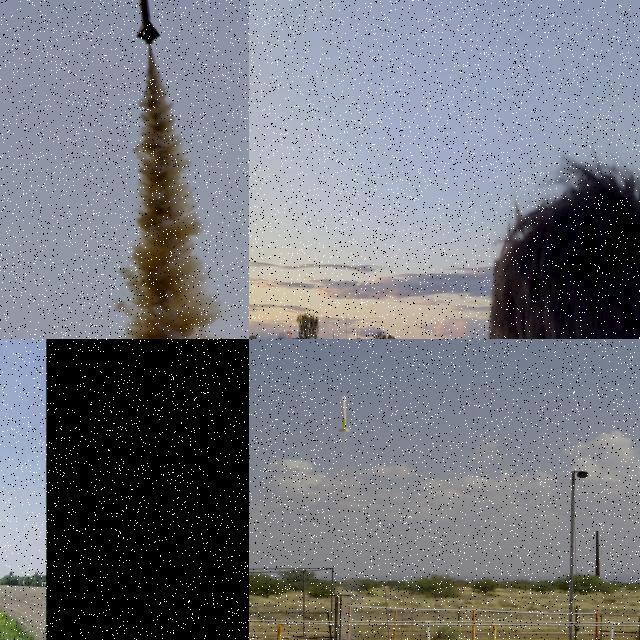Rocket: (127, 0, 161, 45), (338, 396, 351, 434)
